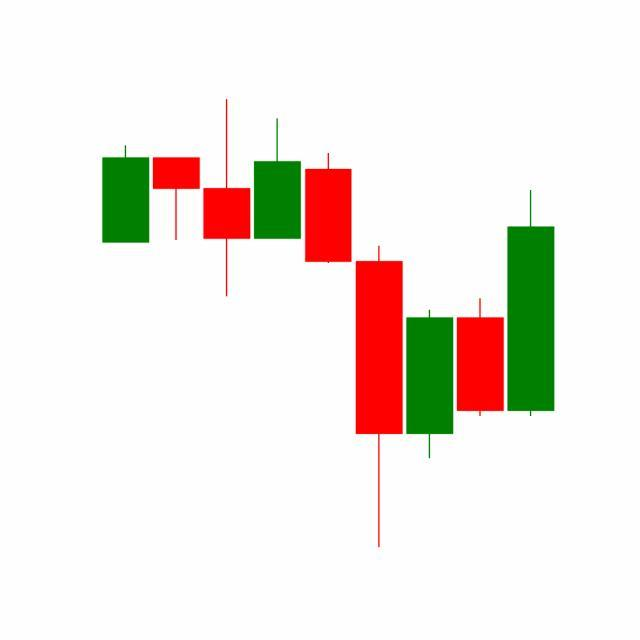Hikkake Pattern: (252, 114, 506, 548)
